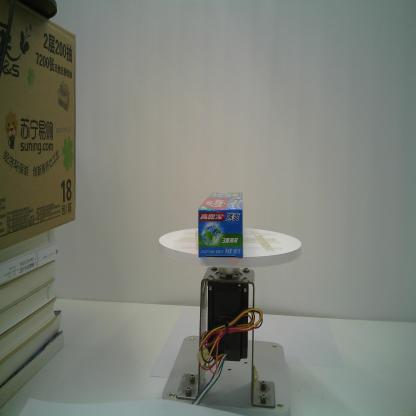Personal Hygiene: (198, 192, 245, 260)
